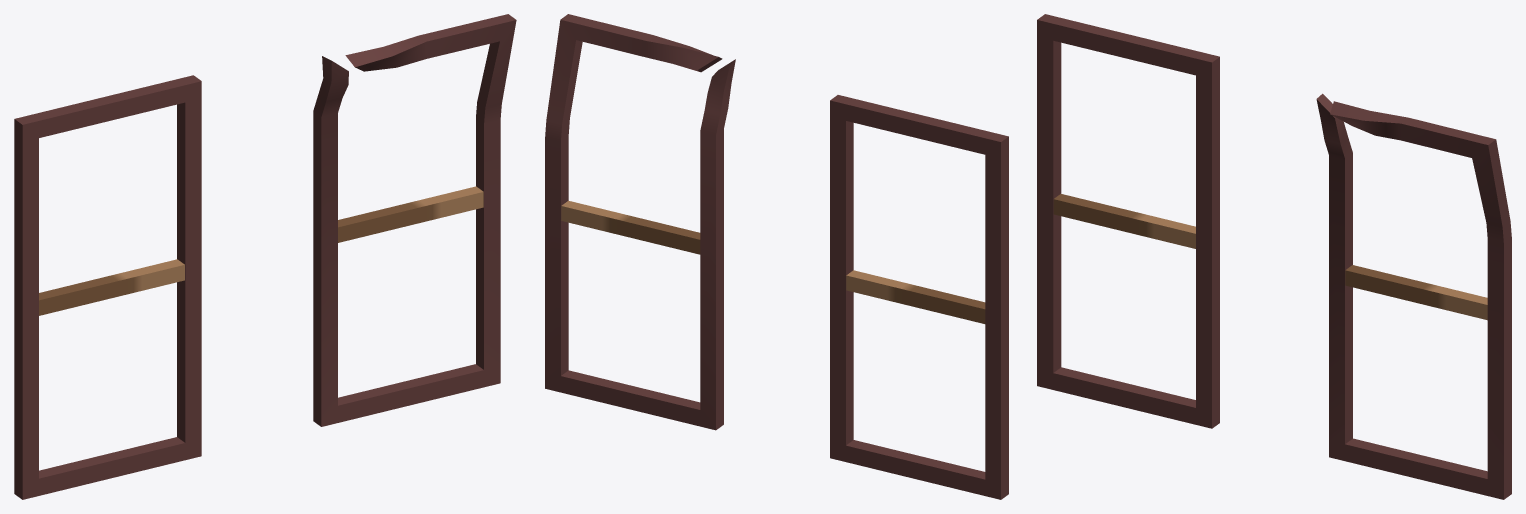
The model's file is DBK_WinDouble_Metal_90.fbx.
The picture shows the model from 3 angles, left to right: view 1: azimuth 30°, elevation 25°; view 2: azimuth 150°, elevation 25°; view 3: azimuth 330°, elevation 25°; orthographic projection. The views are drawn at different scales.
Visible parts, largest first — view 1: DBK_WinDouble_Metal_90; view 2: DBK_WinDouble_Metal_90; view 3: DBK_WinDouble_Metal_90.
Boxes of the visible parts, x1=… form: DBK_WinDouble_Metal_90: x1=14, y1=14, x2=516, y2=499; DBK_WinDouble_Metal_90: x1=545, y1=14, x2=1008, y2=499; DBK_WinDouble_Metal_90: x1=1037, y1=14, x2=1511, y2=499.
Size of the model in its own units: 160 by 120 by 15.04.
